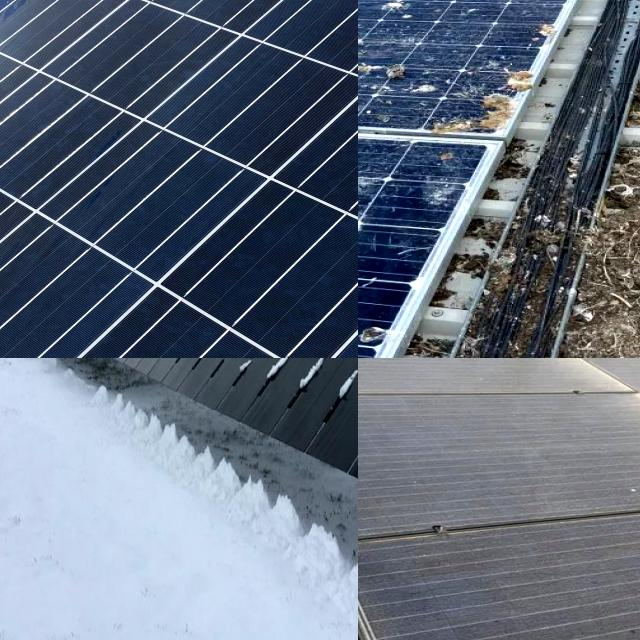bird: (358, 267, 424, 317), (358, 50, 431, 93), (358, 201, 413, 237), (369, 0, 447, 19), (425, 0, 502, 19), (358, 318, 406, 346), (358, 0, 397, 27), (358, 44, 388, 79), (491, 0, 563, 13), (358, 135, 393, 161), (358, 15, 386, 40), (539, 0, 568, 16), (358, 0, 384, 14)
crack: (0, 0, 358, 358)
dust: (358, 534, 545, 640), (358, 393, 495, 524), (520, 389, 640, 506), (429, 358, 577, 419), (358, 358, 442, 421), (367, 358, 502, 396), (358, 358, 440, 402)
panel: (126, 358, 202, 386), (28, 358, 112, 383), (297, 358, 333, 413), (263, 358, 310, 397), (330, 361, 358, 420), (64, 358, 119, 379), (331, 358, 358, 385), (309, 358, 358, 372), (232, 358, 260, 379), (113, 358, 148, 373), (225, 358, 260, 372), (292, 358, 331, 370), (282, 358, 314, 371), (0, 358, 16, 380), (194, 358, 209, 368), (167, 358, 182, 366)
